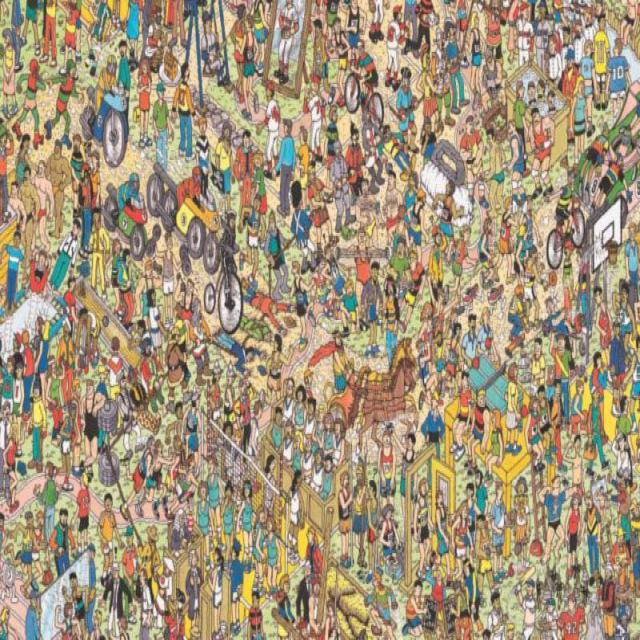waldo: (184, 490, 194, 512)
